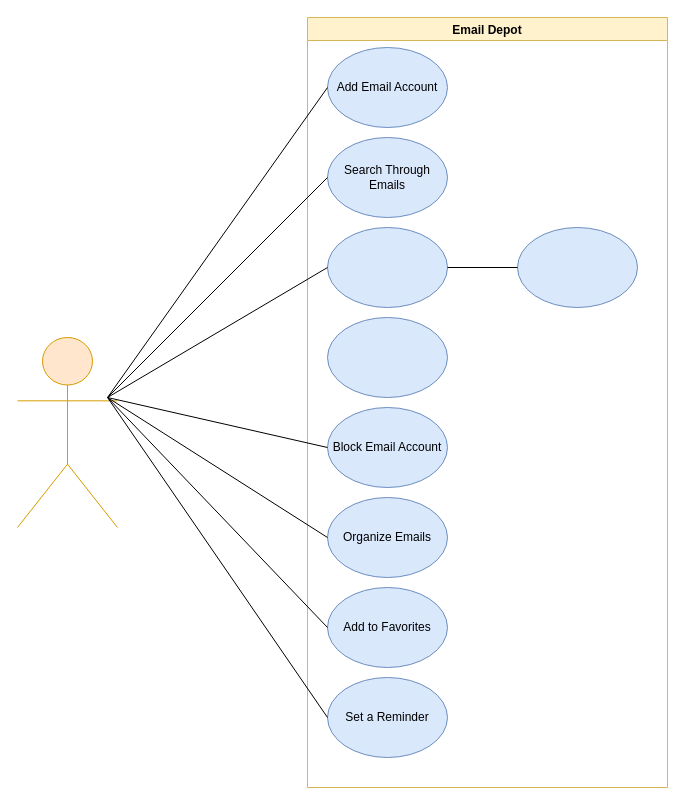
Image size: 685x805. Some labels were removed from this diagram. Each missing label, with the centre of its shape:
"Compose Email" belongs at [387,267].
"Read Email" belongs at [387,357].
"Schedule Emails" belongs at [577,267].
"User" belongs at [67,432].
